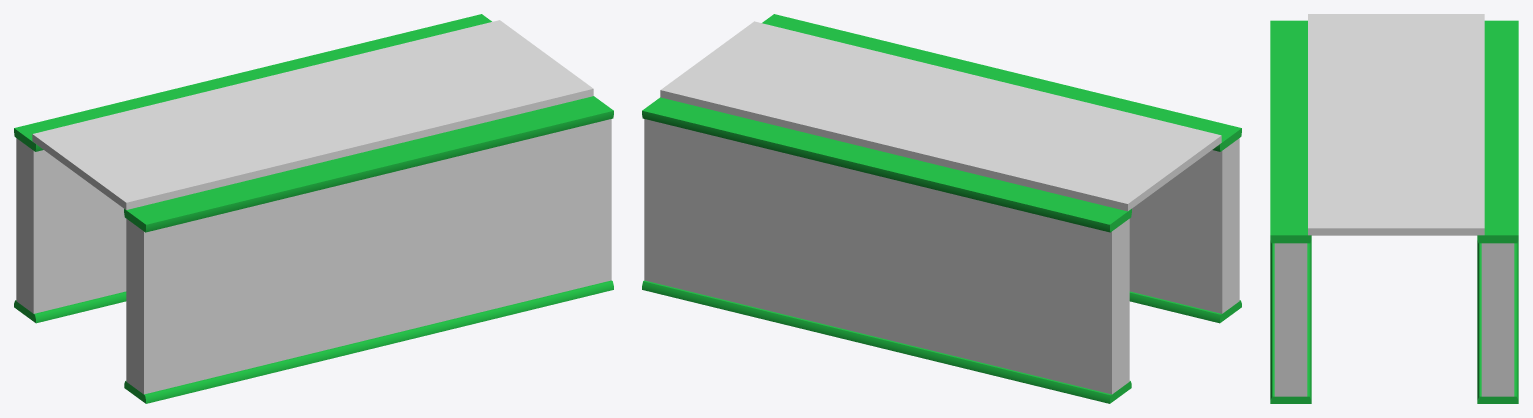
File: Basic Hallway 01_NF.fbx
3 renders of one model, left to right at view 1: azimuth 30°, elevation 25°; view 2: azimuth 150°, elevation 25°; view 3: azimuth 270°, elevation 25°, orthographic. The views are drawn at different scales.
Visible parts, largest first — view 1: Plane_001; view 2: Plane_001; view 3: Plane_001.
Part boxes in pixels (left/top/right/bottom): Plane_001: left=14, top=14, right=613, bottom=403; Plane_001: left=642, top=14, right=1241, bottom=403; Plane_001: left=1270, top=14, right=1518, bottom=403.
Bounding box in the file's own units: 1258 × 479 × 615.
